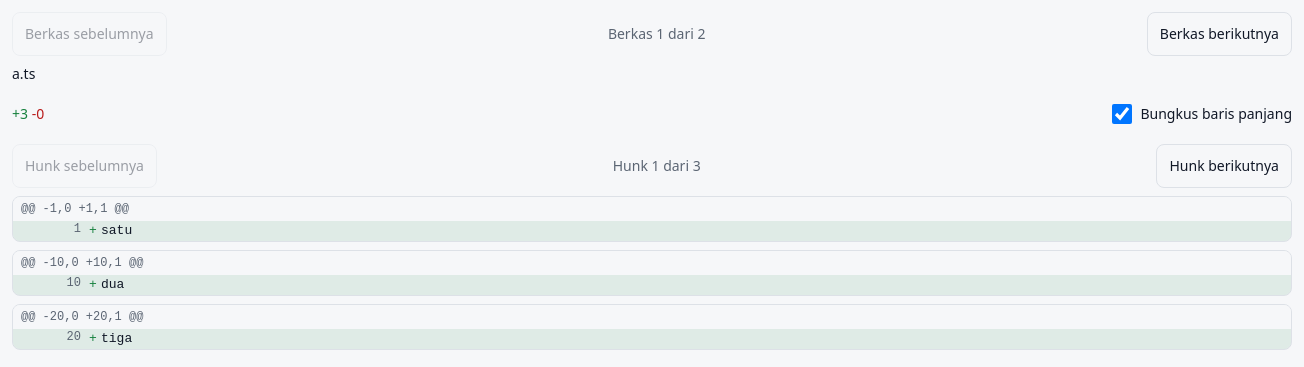
Test: DiffViewer: navigasi › pindah berkas mengembalikan penunjuk hunk ke awal
The width and height of the screenshot is (1304, 367).
Click the button "Hunk berikutnya". click: (1224, 166)
box: [1156,144,1292,188]
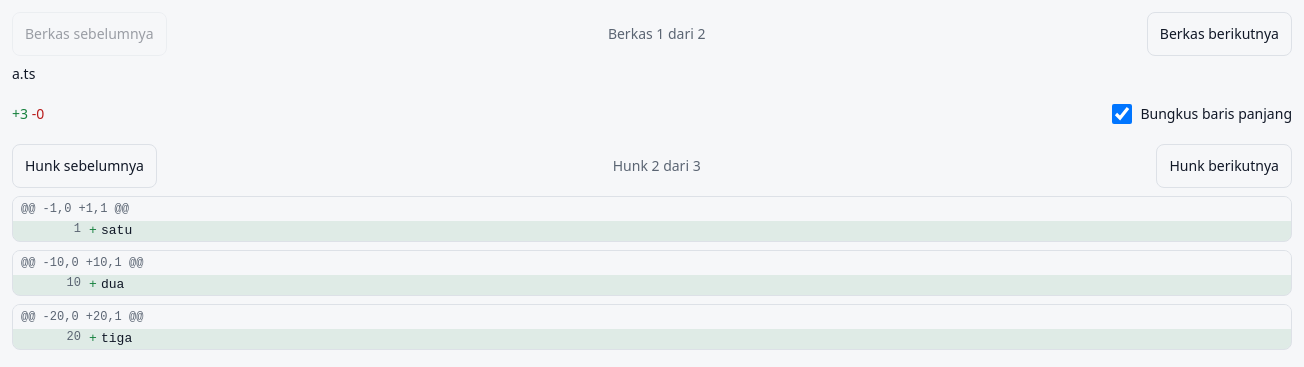
Click the button "Berkas berikutnya". click: (1219, 34)
box: [1147,12,1292,56]
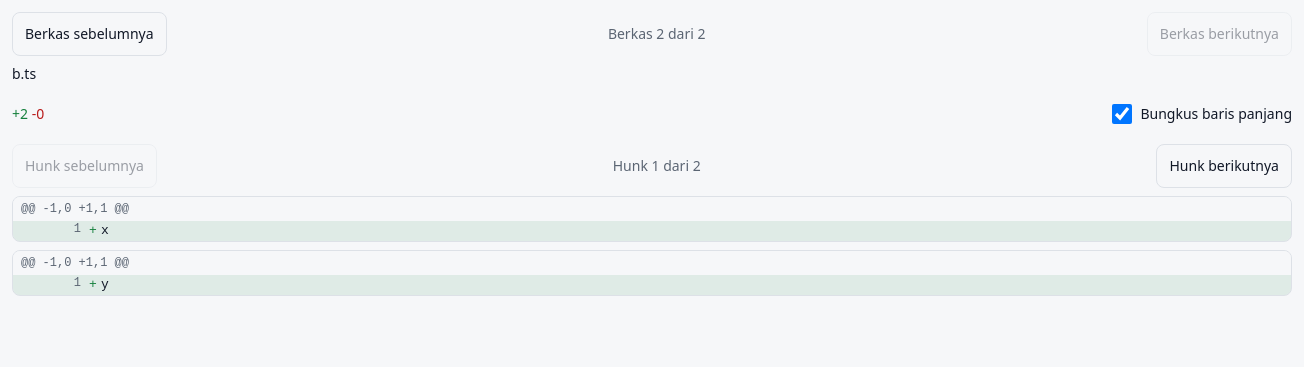
Expected: the text "Hunk 1 dari 2" is shown, [613,156,701,176]
